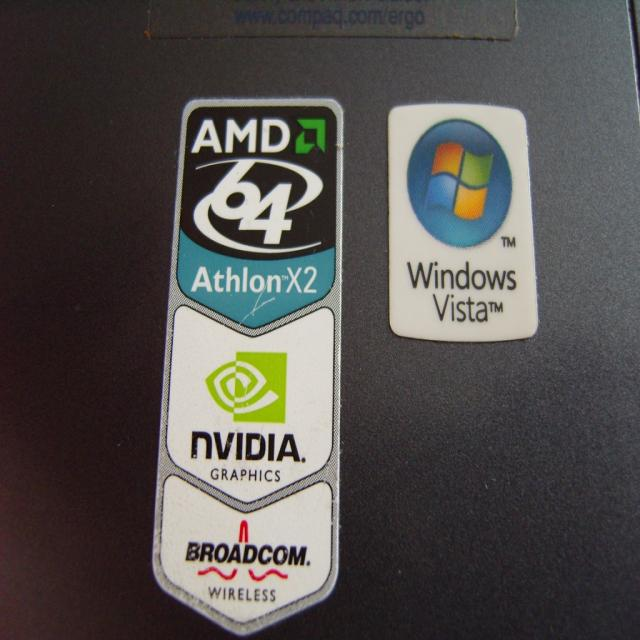nvidia: (208, 351, 289, 426)
